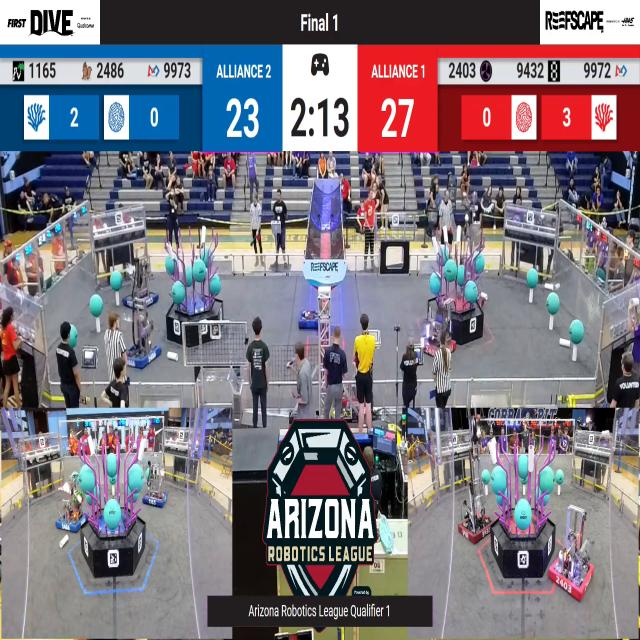scoreboard: (0, 48, 640, 147)
